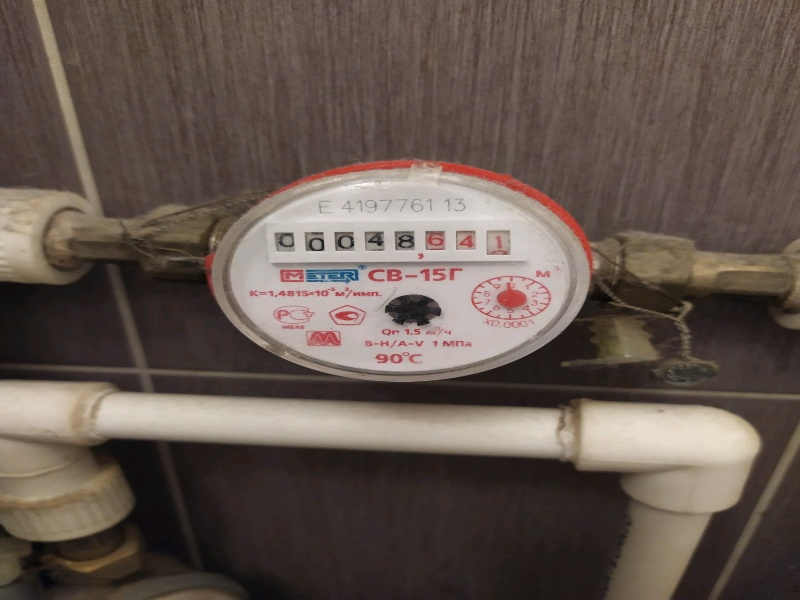meter: (267, 223, 519, 257)
